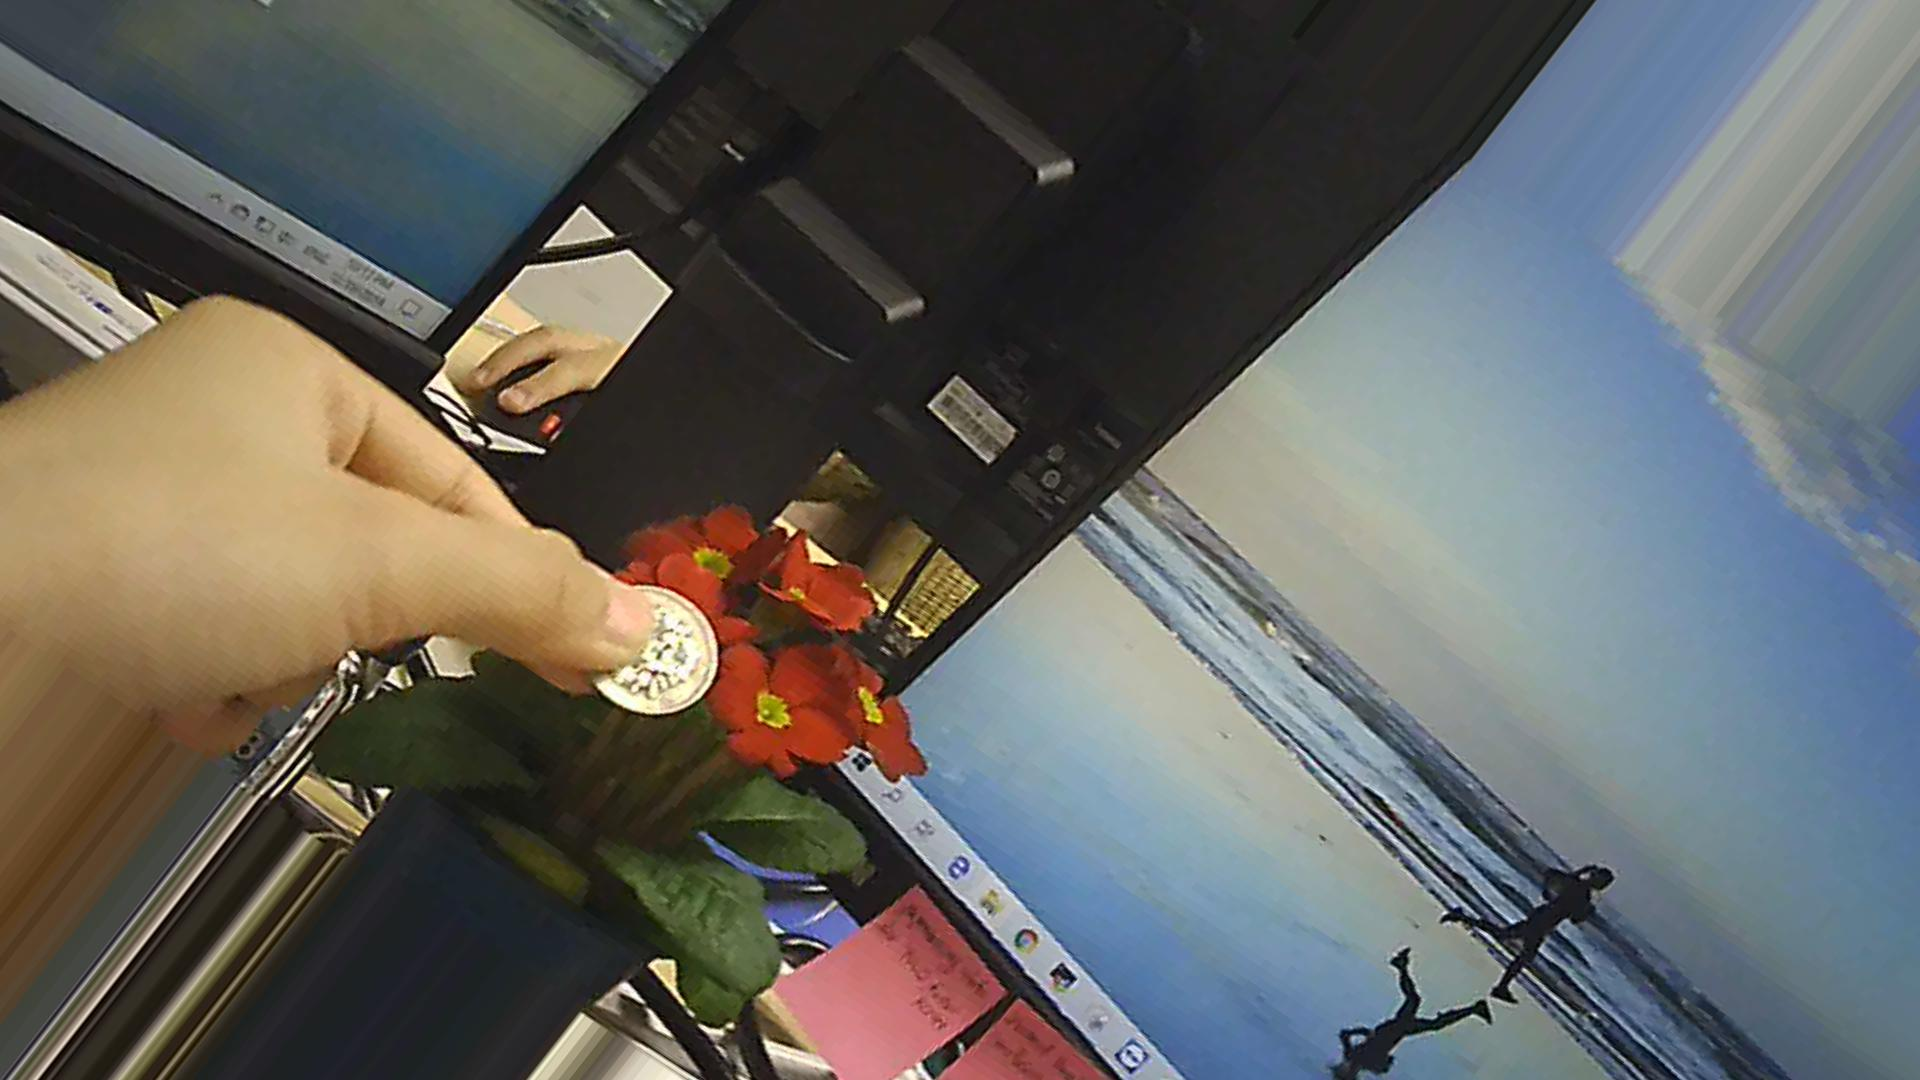100 Yen: (579, 572, 728, 731)
